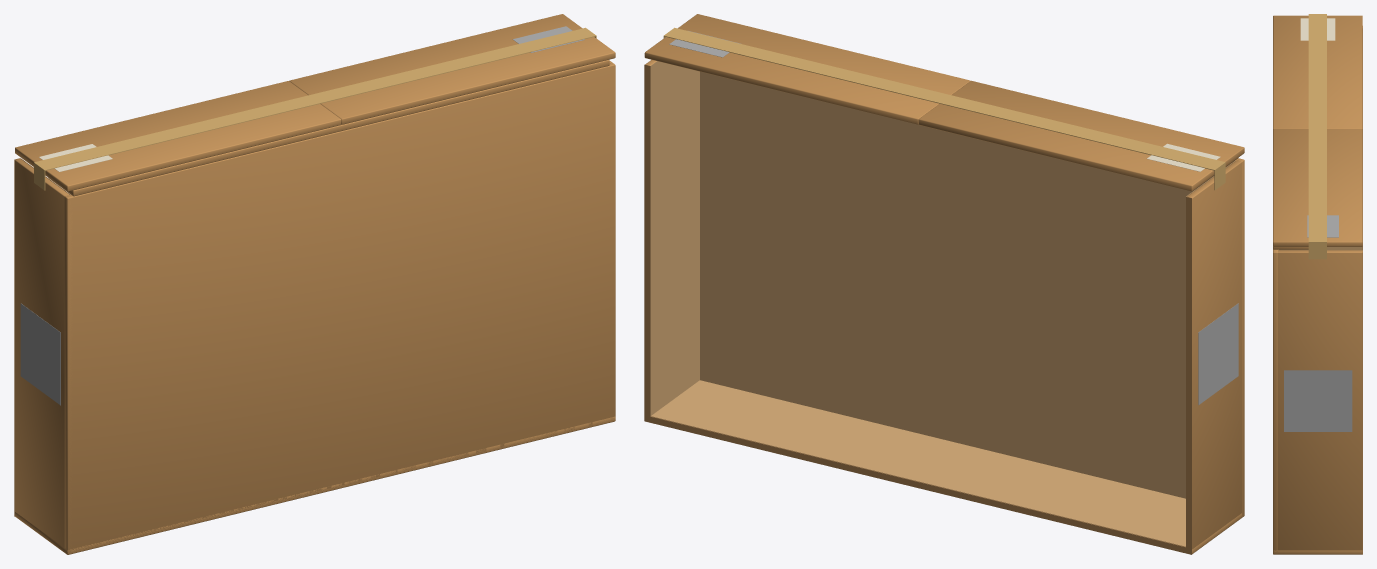
The picture shows the model from 3 angles, left to right: view 1: azimuth 30°, elevation 25°; view 2: azimuth 150°, elevation 25°; view 3: azimuth 270°, elevation 25°; orthographic projection. The views are drawn at different scales.
Parts seen in each view (by area): view 1: box_8x5, FlapR, FlapL, Tape, FlapB; view 2: box_8x5, FlapR, FlapL, Tape; view 3: box_8x5, FlapL, FlapR, Tape.
Part boxes in pixels (box(x1,y1,x2,y2)): box_8x5: box(14, 61, 615, 554); FlapR: box(15, 81, 341, 191); FlapL: box(289, 14, 615, 124); Tape: box(34, 27, 596, 190); FlapB: box(49, 60, 609, 196); box_8x5: box(644, 59, 1244, 554); FlapR: box(918, 80, 1244, 191); FlapL: box(644, 14, 970, 124); Tape: box(663, 27, 1225, 190); box_8x5: box(1273, 26, 1362, 554); FlapL: box(1273, 129, 1362, 246); FlapR: box(1273, 15, 1362, 128); Tape: box(1308, 14, 1326, 259).
Bounding box in the file's own units: 2.06 × 1.32 × 0.3428.
